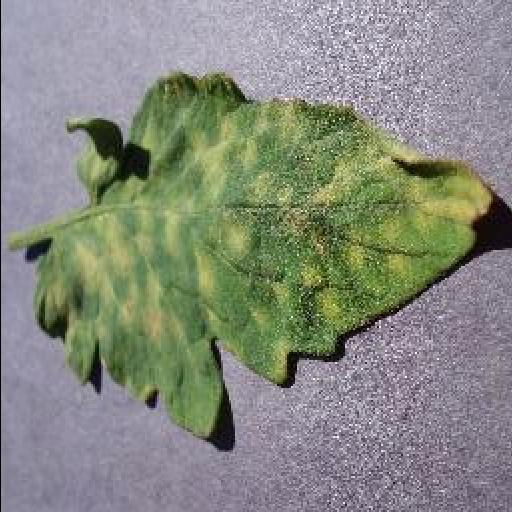disease_tomato: (30, 71, 498, 439)
